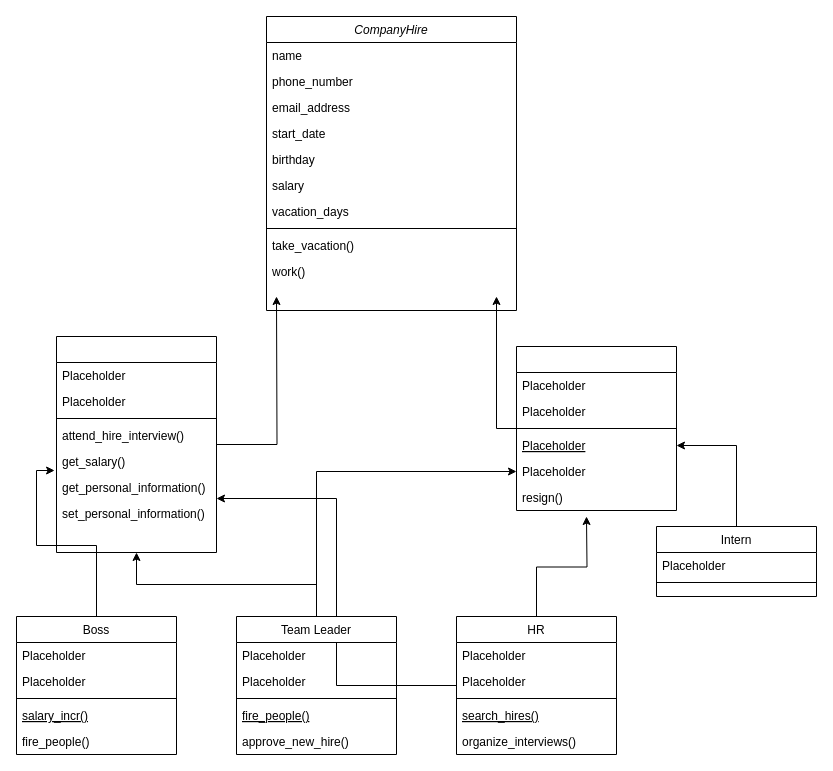
This 833x771 diagram has some shape labels left out. Each missing label, with the box of its shape:
Employee: (516, 346, 676, 510)
Manager (abstract class): (56, 336, 216, 552)
